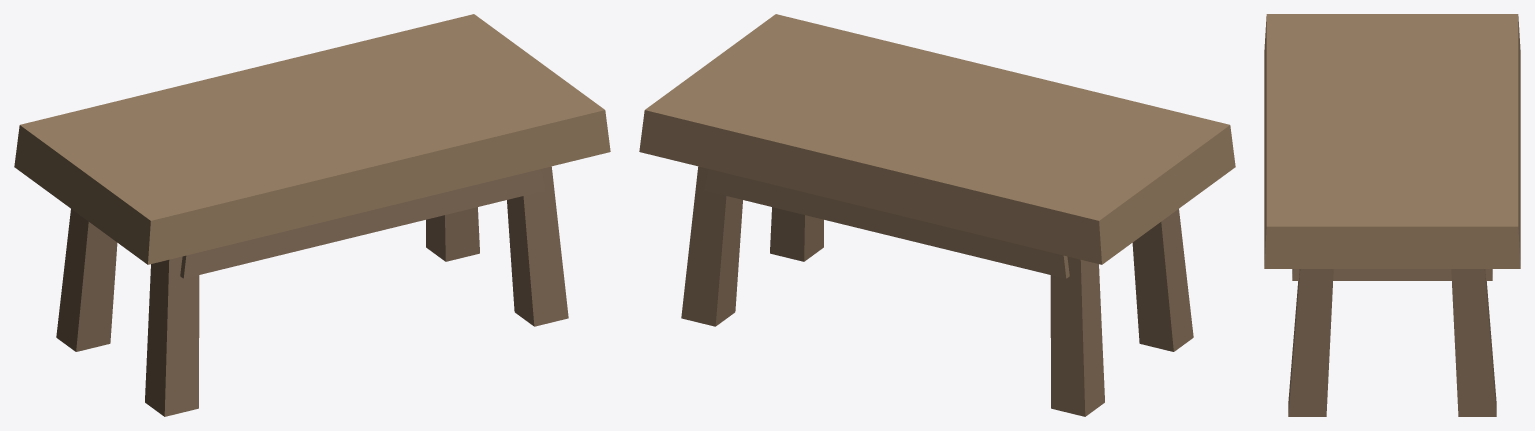
The model's file is table_long.glb.
The picture shows the model from 3 angles, left to right: view 1: azimuth 30°, elevation 25°; view 2: azimuth 150°, elevation 25°; view 3: azimuth 270°, elevation 25°; orthographic projection. The views are drawn at different scales.
Visible parts, largest first — view 1: part_4, part_5, part_1, part_3, part_0, part_2; view 2: part_4, part_5, part_0, part_2, part_1, part_3; view 3: part_4, part_2, part_3, part_5.
Part boxes in pixels (left/top/right/bottom): part_4: left=14, top=14, right=610, bottom=264; part_5: left=180, top=169, right=545, bottom=278; part_1: left=145, top=256, right=199, bottom=416; part_3: left=507, top=166, right=568, bottom=326; part_0: left=56, top=209, right=117, bottom=351; part_2: left=426, top=207, right=479, bottom=261; part_4: left=639, top=14, right=1235, bottom=264; part_5: left=704, top=169, right=1069, bottom=278; part_0: left=1050, top=256, right=1104, bottom=416; part_2: left=681, top=166, right=742, bottom=326; part_1: left=1132, top=209, right=1193, bottom=351; part_3: left=770, top=207, right=823, bottom=261; part_4: left=1264, top=14, right=1520, bottom=268; part_2: left=1451, top=269, right=1496, bottom=416; part_3: left=1288, top=269, right=1333, bottom=416; part_5: left=1292, top=269, right=1492, bottom=280.
Size of the model in its own units: 1.84 by 0.8 by 0.92.
